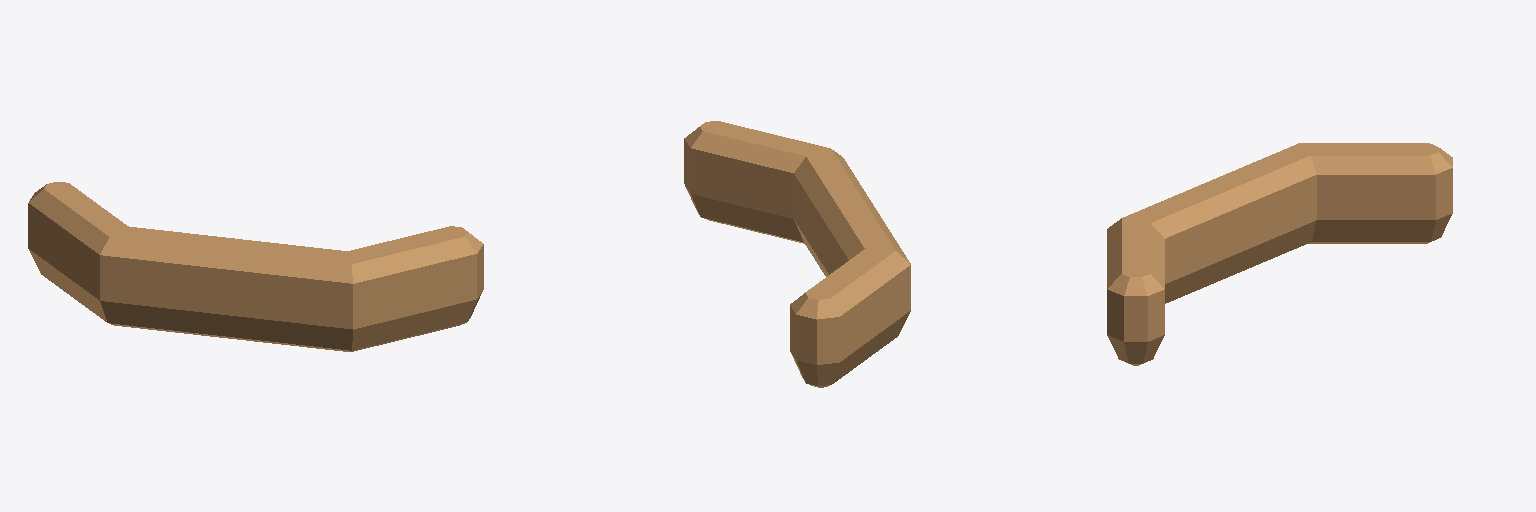
File: Balcony_Base_Curved_Small.obj
3 renders of one model, left to right at view 1: azimuth 30°, elevation 25°; view 2: azimuth 150°, elevation 25°; view 3: azimuth 270°, elevation 25°, orthographic.
Visible parts, largest first — view 1: object1; view 2: object1; view 3: object1.
Boxes of the visible parts, <box> form: object1: <box>28,182,483,351</box>; object1: <box>684,121,910,387</box>; object1: <box>1107,143,1452,365</box>.
Size of the model in its own units: 1.2 by 0.35 by 1.2.